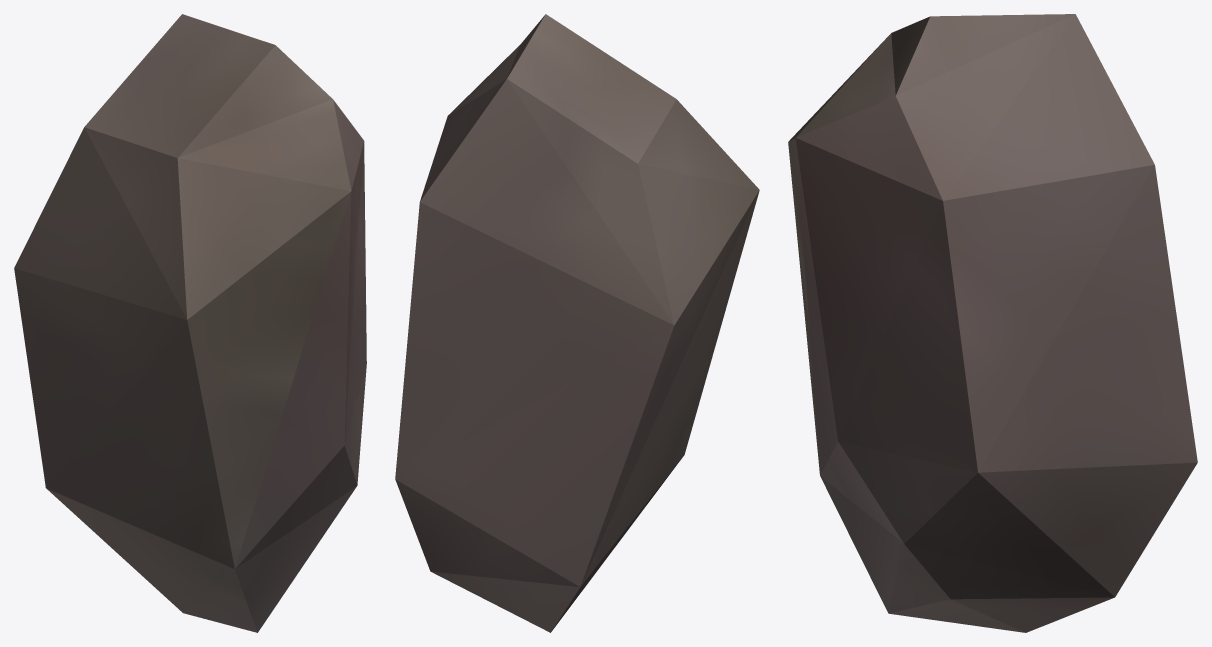
File: rock_10.glb
The picture shows the model from 3 angles, left to right: view 1: azimuth 30°, elevation 25°; view 2: azimuth 150°, elevation 25°; view 3: azimuth 270°, elevation 25°; orthographic projection. The views are drawn at different scales.
Parts seen in each view (by area): view 1: SM_Rocks_10_RocksStylized_M_0; view 2: SM_Rocks_10_RocksStylized_M_0; view 3: SM_Rocks_10_RocksStylized_M_0.
Boxes of the visible parts, left/top/right/bottom form: SM_Rocks_10_RocksStylized_M_0: left=14, top=14, right=366, bottom=632; SM_Rocks_10_RocksStylized_M_0: left=395, top=14, right=759, bottom=632; SM_Rocks_10_RocksStylized_M_0: left=788, top=14, right=1197, bottom=632.
Bounding box in the file's own units: 0.4468 × 0.8114 × 0.4688.
Materials: 1 (1 with a texture image).
